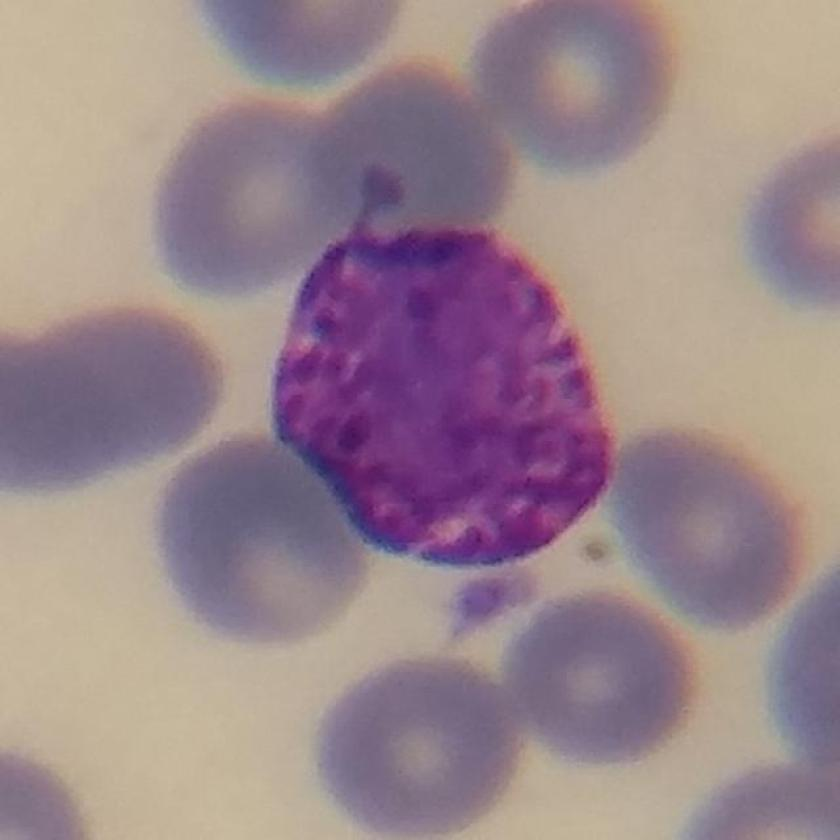basophil: (271, 200, 631, 576)
